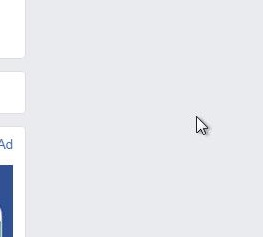cursor: (195, 114, 209, 135)
